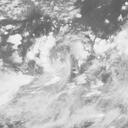cyclone: (40, 45, 95, 106)
